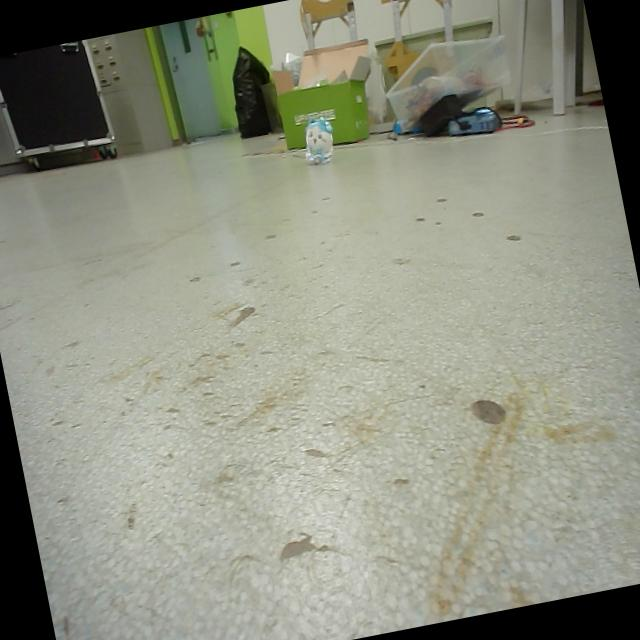xiaoba: (300, 113, 340, 168)
